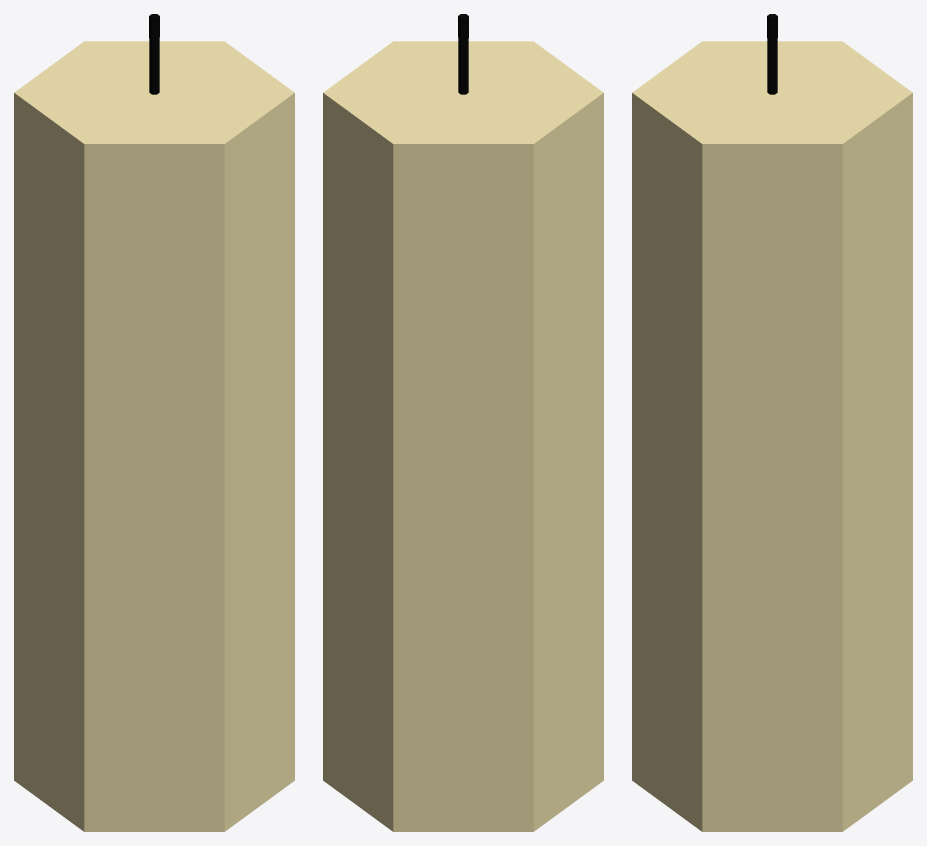
File: candle.003.fbx
The picture shows the model from 3 angles, left to right: view 1: azimuth 30°, elevation 25°; view 2: azimuth 150°, elevation 25°; view 3: azimuth 270°, elevation 25°; orthographic projection.
Visible parts, largest first — view 1: candle.003; view 2: candle.003; view 3: candle.003.
Part boxes in pixels (x1,y1,x2,y2): candle.003: (14, 14, 294, 831); candle.003: (323, 14, 603, 831); candle.003: (632, 14, 912, 831).
Bounding box in the file's own units: 10.44 × 36.23 × 12.06.
